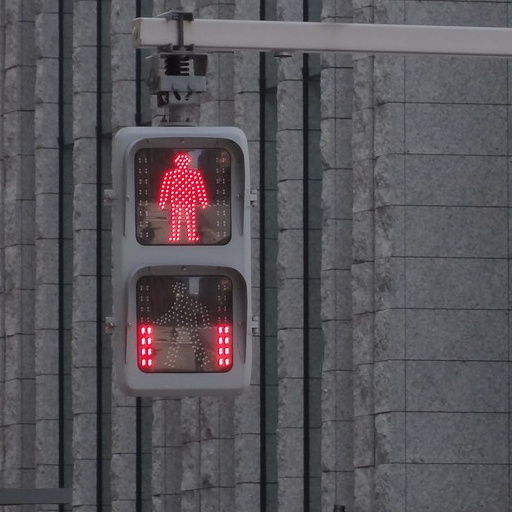Pedestrian_Signal_Red: (122, 130, 246, 377)
